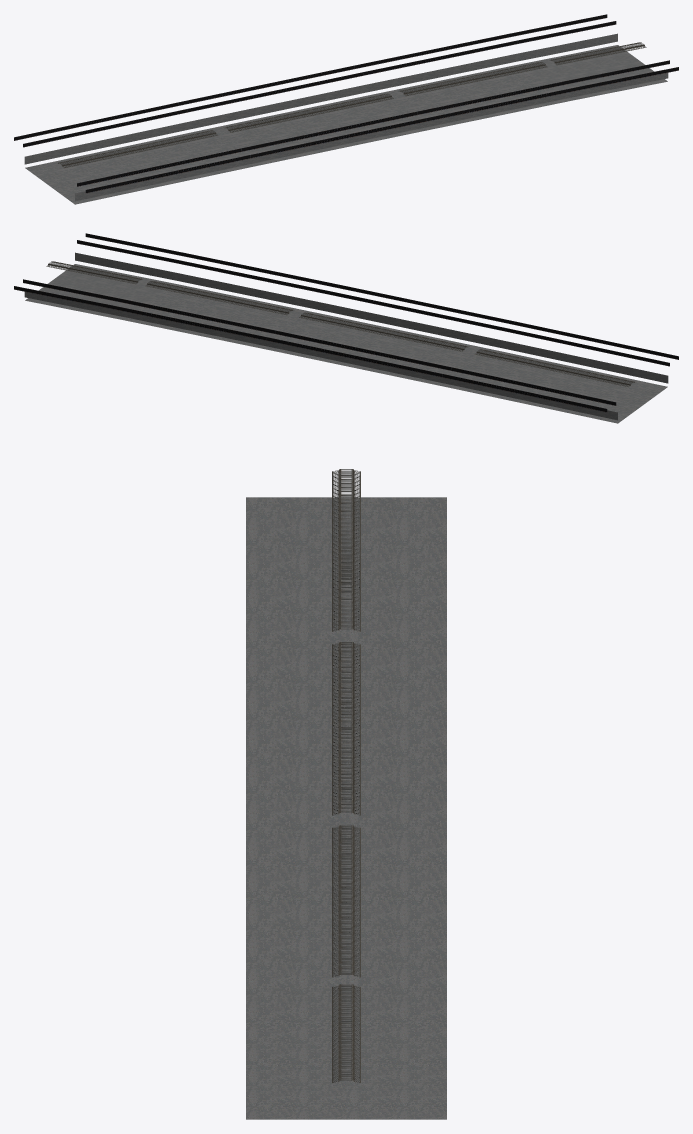
The model's file is baybalph4_sfse.obj.
The picture shows the model from 3 angles, top to bottom: view 1: azimuth 30°, elevation 25°; view 2: azimuth 150°, elevation 25°; view 3: azimuth 270°, elevation 25°; orthographic projection. The views are drawn at different scales.
Parts seen in each view (by area): view 1: baybALPH4_SFSe; view 2: baybALPH4_SFSe; view 3: baybALPH4_SFSe.
Part boxes in pixels (x1,y1,x2,y2): baybALPH4_SFSe: (14,14,678,204); baybALPH4_SFSe: (14,233,678,423); baybALPH4_SFSe: (246,469,446,1119).
Size of the model in its own units: 191 by 13.63 by 40.
Materials: 3 (3 with a texture image).
